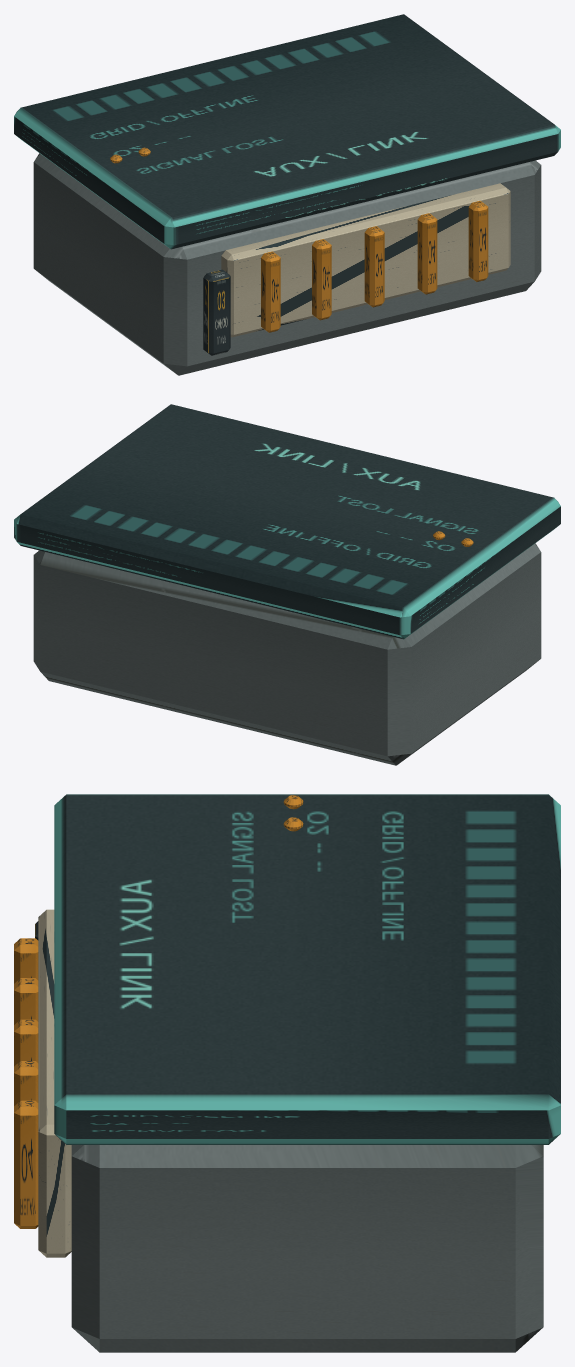
Rendered from hvac_unit_LOD0.obj.
The picture shows the model from 3 angles, top to bottom: view 1: azimuth 30°, elevation 25°; view 2: azimuth 150°, elevation 25°; view 3: azimuth 270°, elevation 25°; orthographic projection. The views are drawn at different scales.
Visible parts, largest first — view 1: L02_hvac_unit_LOD0; view 2: L02_hvac_unit_LOD0; view 3: L02_hvac_unit_LOD0.
Part boxes in pixels (box(x1,y1,x2,y2)): L02_hvac_unit_LOD0: box(14, 14, 560, 375); L02_hvac_unit_LOD0: box(14, 404, 560, 765); L02_hvac_unit_LOD0: box(14, 794, 560, 1352).
Size of the model in its own units: 2.1 by 0.89 by 1.56.
1 material, 1 textured.
